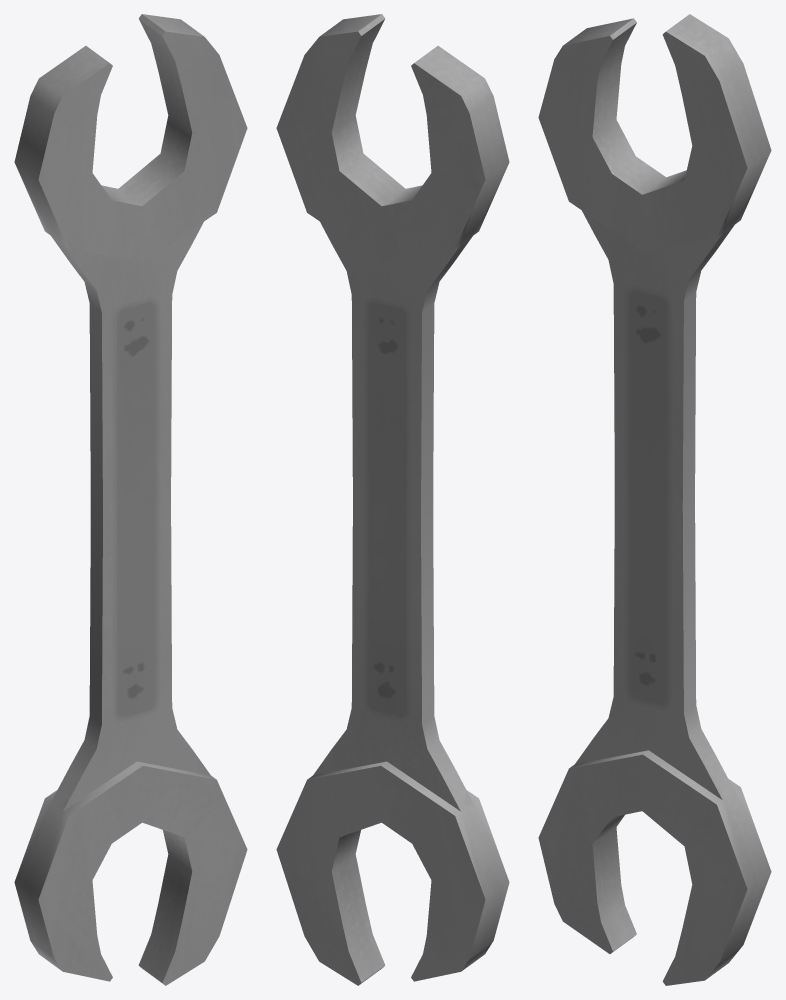
File: Wrench.fbx
The picture shows the model from 3 angles, left to right: view 1: azimuth 30°, elevation 25°; view 2: azimuth 150°, elevation 25°; view 3: azimuth 330°, elevation 25°; orthographic projection.
Parts seen in each view (by area): view 1: WrenchTool; view 2: WrenchTool; view 3: WrenchTool.
Boxes of the visible parts, x1,y1,x2,y2 form: WrenchTool: (14,14,247,985); WrenchTool: (276,14,509,985); WrenchTool: (538,14,771,985).
Bounding box in the file's own units: 5.54 × 24.16 × 1.1.
Materials: 1 (1 with a texture image).
